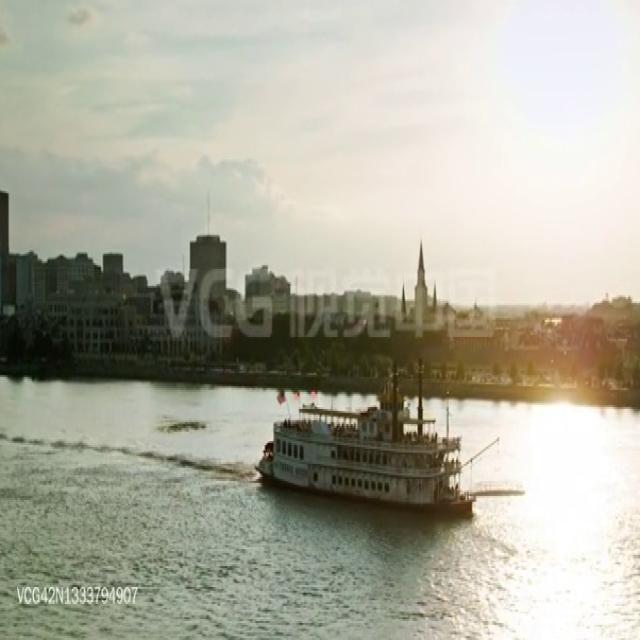passenger ship: (267, 382, 476, 515)
